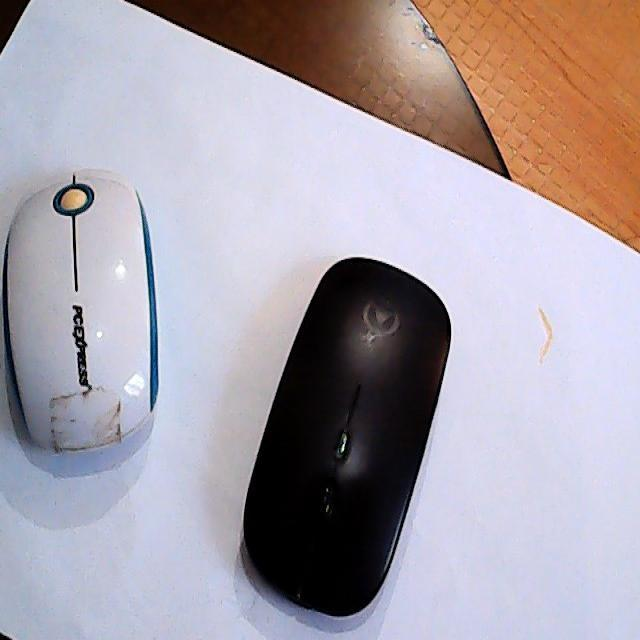mouse: (242, 250, 454, 617), (2, 173, 164, 454)
